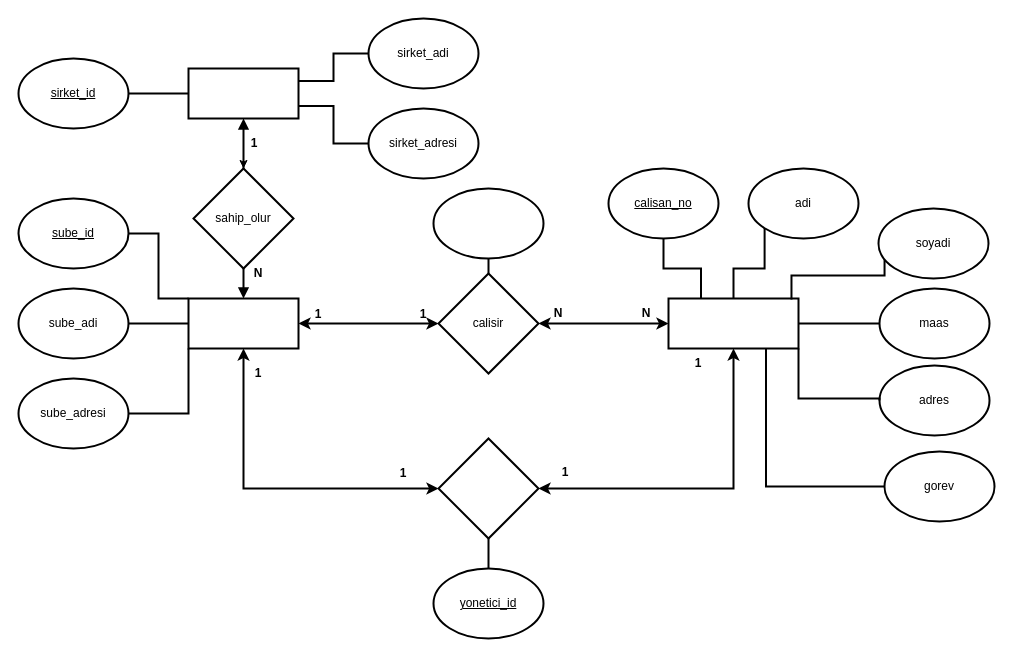
The diagram is 1012 pixels wide and 656 high, and some of its shapes have lost their labels. Here are the shapes that lost their labels. From the top down, the centre of each, then its label:
At point (243, 93): "Sirket".
At point (488, 223): "calisan_id".
At point (243, 323): "Sube".
At point (733, 323): "Calisan".
At point (488, 488): "yonetir".
